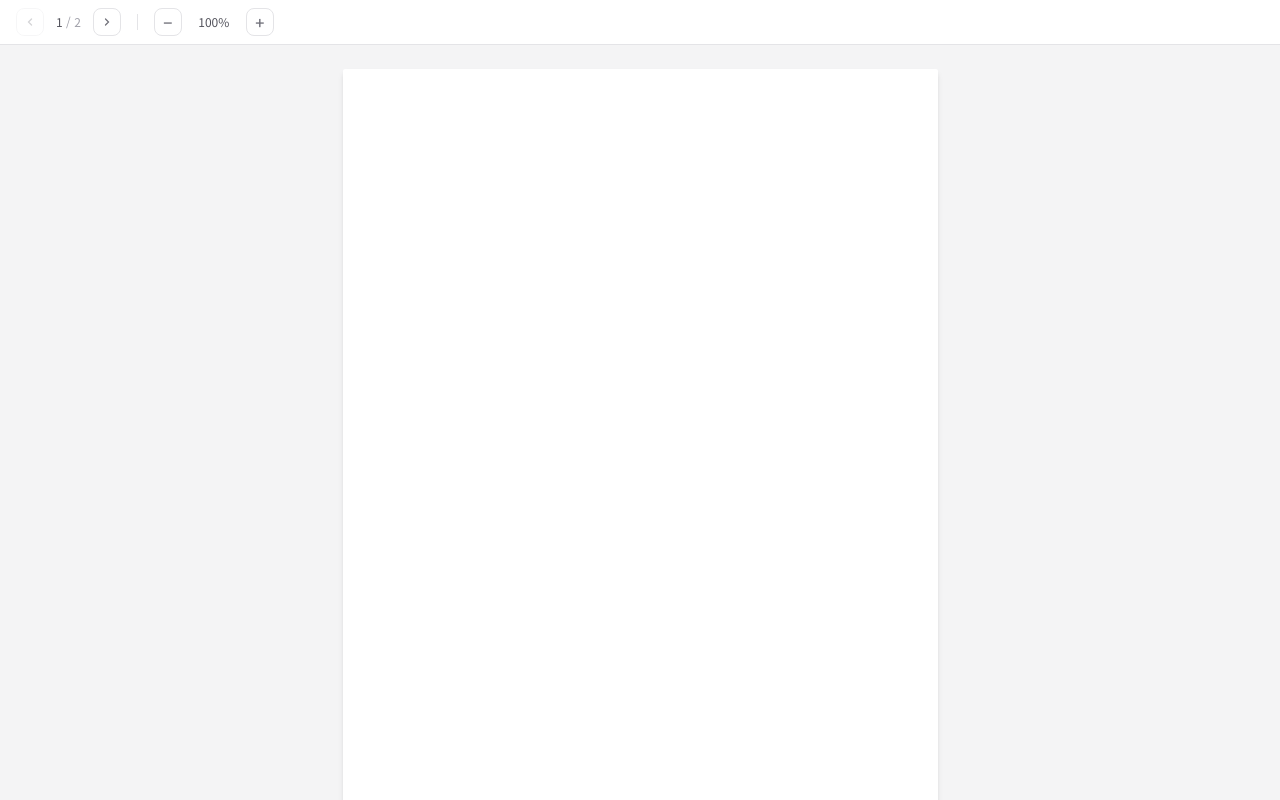
it: PdfViewer — done state › 줌 인 버튼 클릭 시 125%로 증가한다
expect the text "100%" is shown: met, box [198, 13, 229, 30]
Click the button "+": point(260, 22) [246, 8, 274, 36]
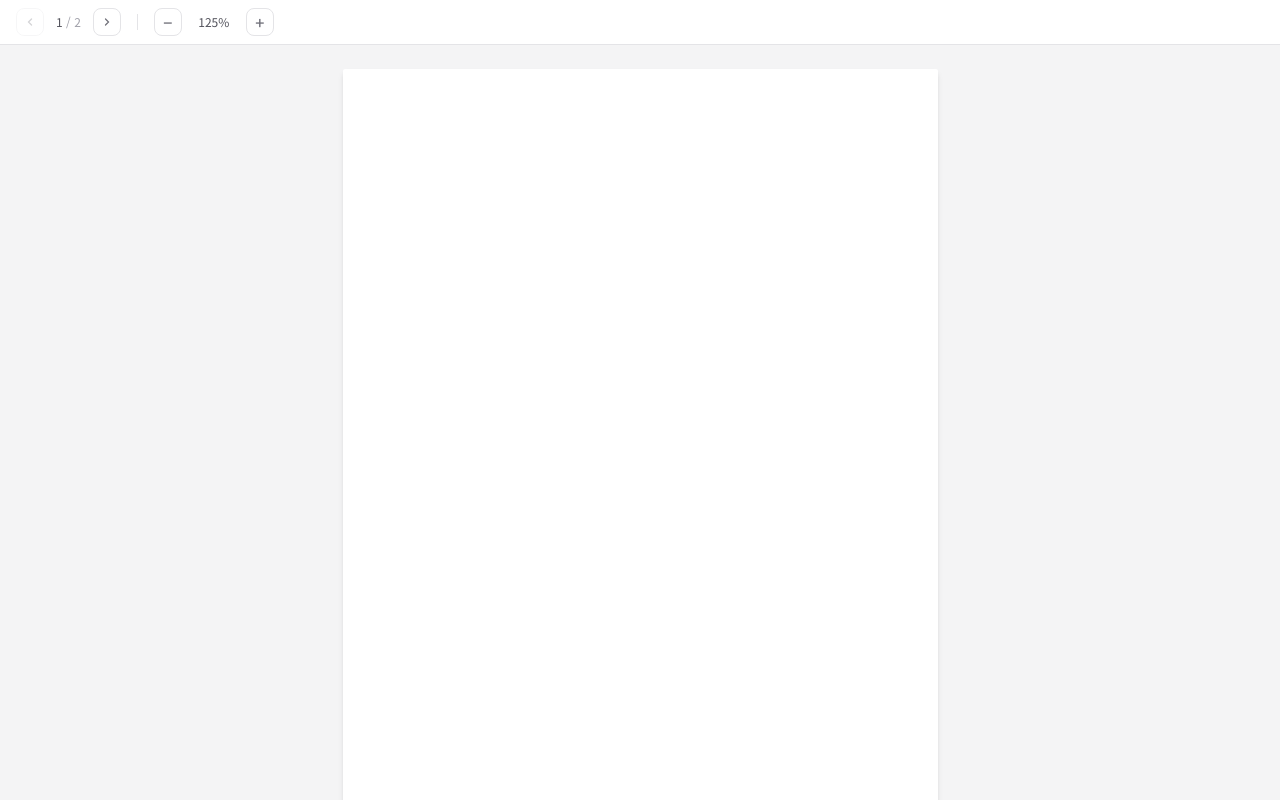
expect the text "125%" is shown: met, box [198, 13, 229, 30]
